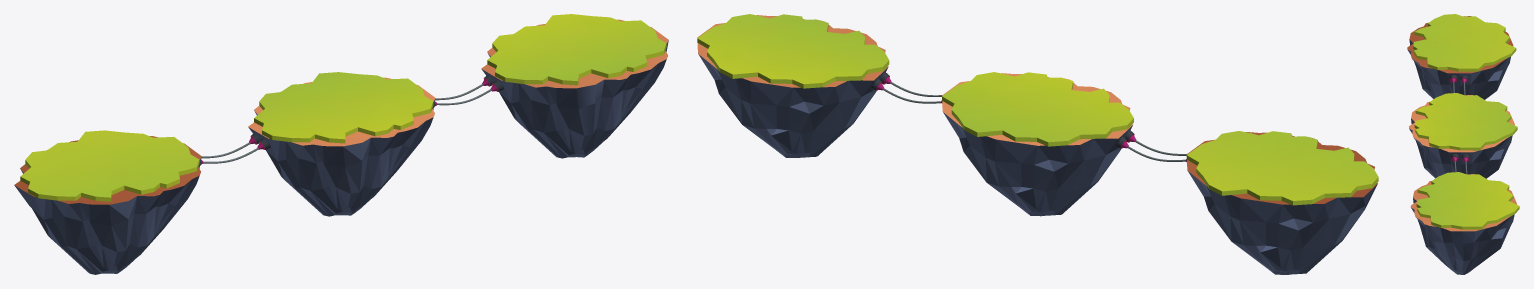
Rendered from TripleIsland.fbx.
The picture shows the model from 3 angles, left to right: view 1: azimuth 30°, elevation 25°; view 2: azimuth 150°, elevation 25°; view 3: azimuth 270°, elevation 25°; orthographic projection. The views are drawn at different scales.
Visible parts, largest first — view 1: Triple_Island; view 2: Triple_Island; view 3: Triple_Island.
Boxes of the visible parts, left/top/right/bottom form: Triple_Island: left=14, top=14, right=668, bottom=274; Triple_Island: left=697, top=14, right=1378, bottom=274; Triple_Island: left=1407, top=14, right=1519, bottom=274.
Bounding box in the file's own units: 5745 × 909 × 1267.
